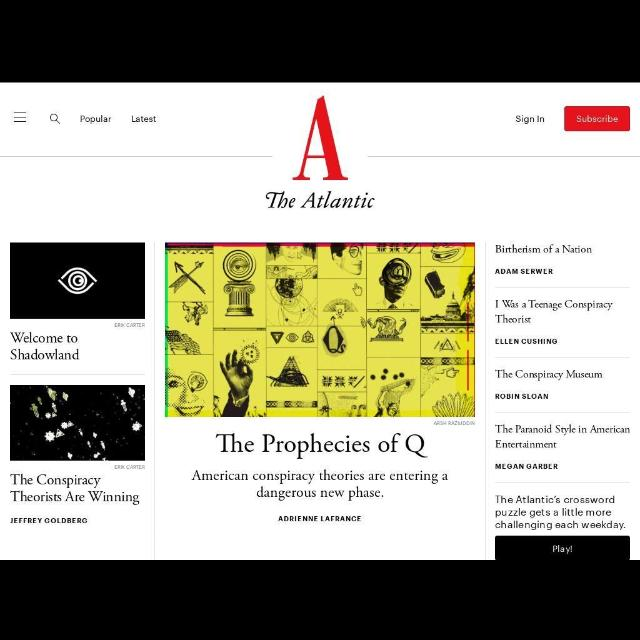icon: (12, 108, 30, 125), (47, 111, 63, 127)
image: (163, 243, 475, 417), (258, 94, 378, 210), (8, 383, 146, 461)
text: (189, 466, 451, 502), (214, 429, 430, 461), (495, 492, 629, 532), (492, 294, 614, 332), (9, 472, 145, 506), (494, 422, 630, 452), (8, 331, 84, 365), (492, 365, 606, 383), (494, 243, 596, 254), (10, 514, 90, 528), (276, 512, 364, 524), (492, 337, 558, 348), (495, 462, 561, 472), (494, 391, 552, 402), (494, 266, 554, 276), (576, 112, 622, 124), (514, 112, 548, 126), (80, 114, 114, 125), (114, 320, 146, 330), (550, 542, 576, 554), (130, 114, 158, 125), (112, 463, 146, 471), (434, 420, 474, 426)
textbutton: (494, 535, 630, 559), (564, 105, 630, 132)
toolbar: (2, 84, 640, 156)
